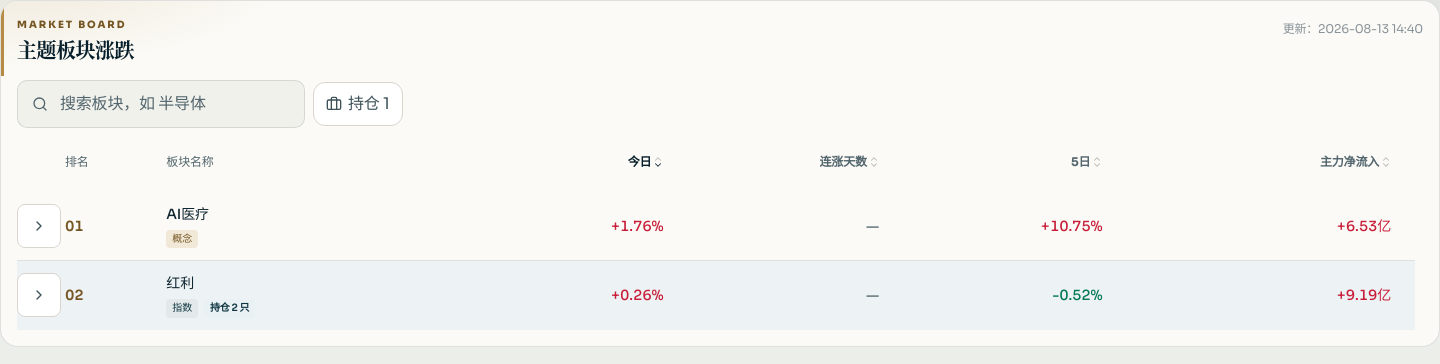
ThemeSectorOverview 搜索与持仓快捷入口 › 一键只看已持仓板块
The image size is (1440, 364).
Click the button "持仓 1" at (358, 104), box [313,82,403,126]
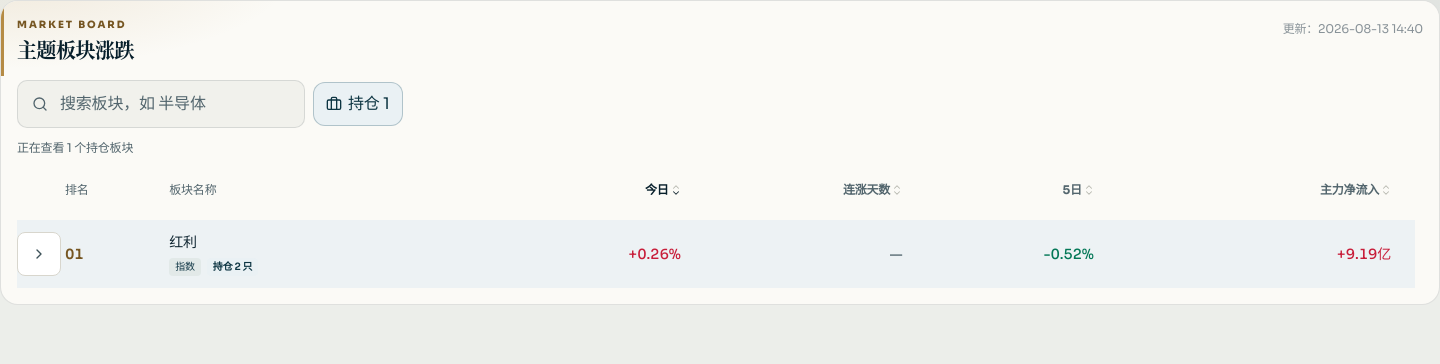
Check: the text "红利" is shown, box [169,233,197,251]
Check: the text "AI医疗" is gone
Check: the text "正在查看 1 个持仓板块" is shown, box [17,140,133,155]
